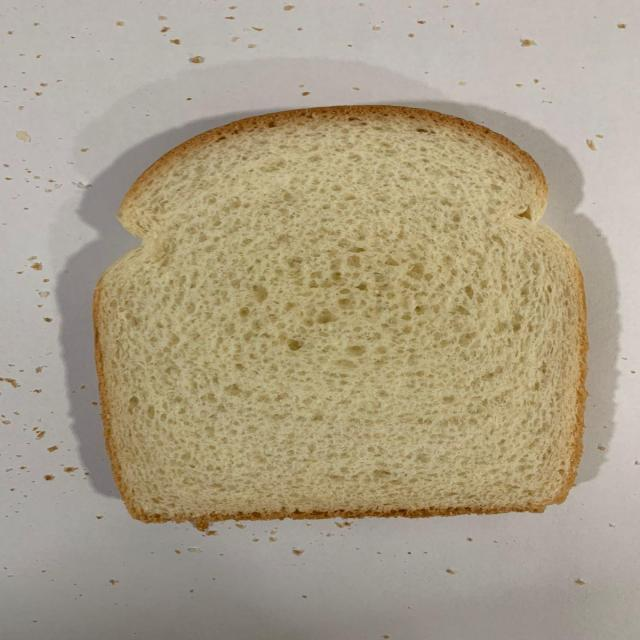pan: (95, 104, 586, 525)
